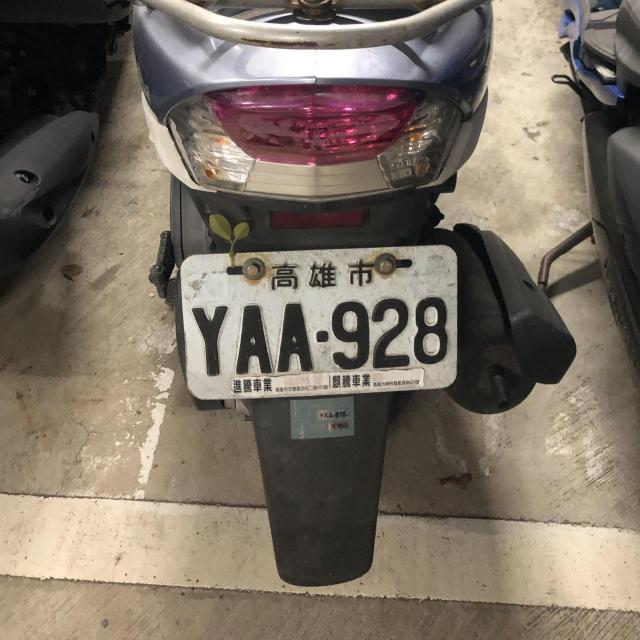W: (179, 239, 460, 405)
